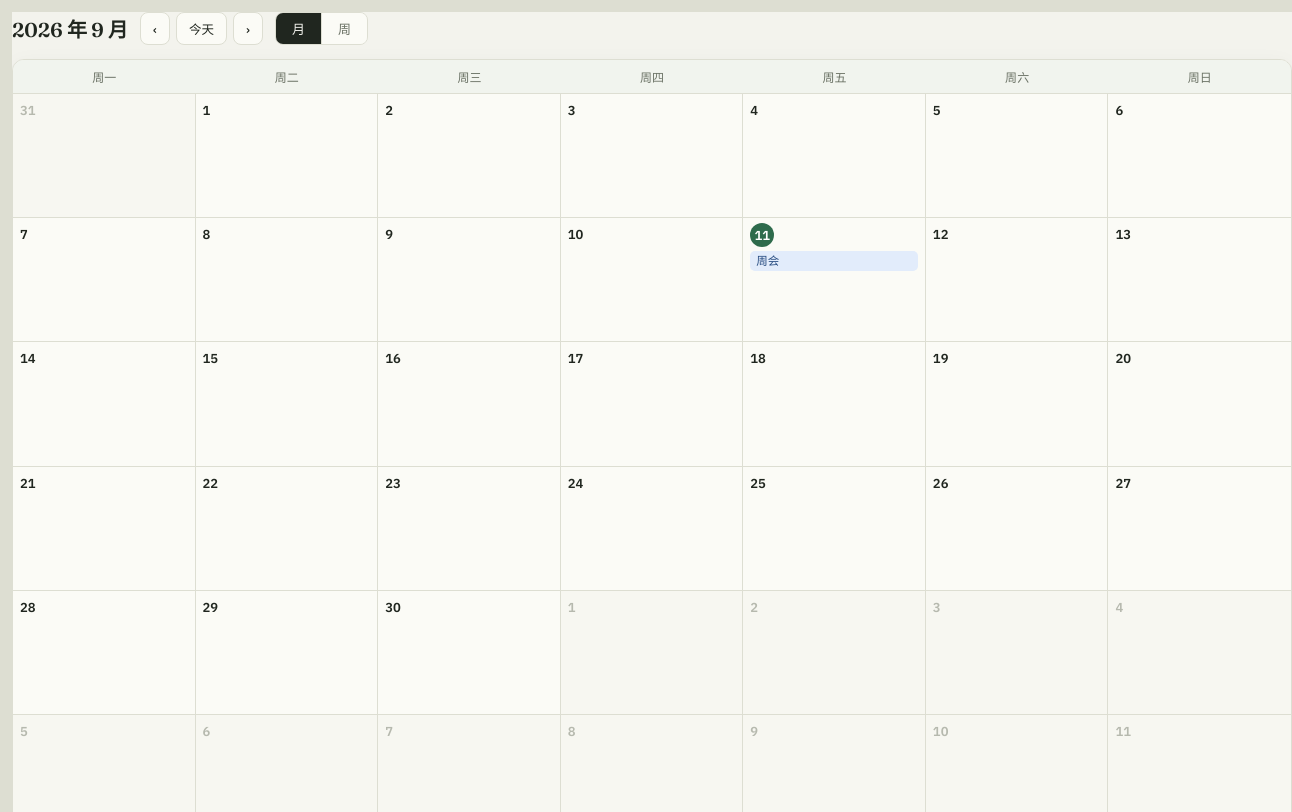
Scenario: CalendarView › 可切换周视图
Expected: the button "周会" is shown, [750,251,918,271]
Click the button "周": (344, 28) [321,13,367,44]
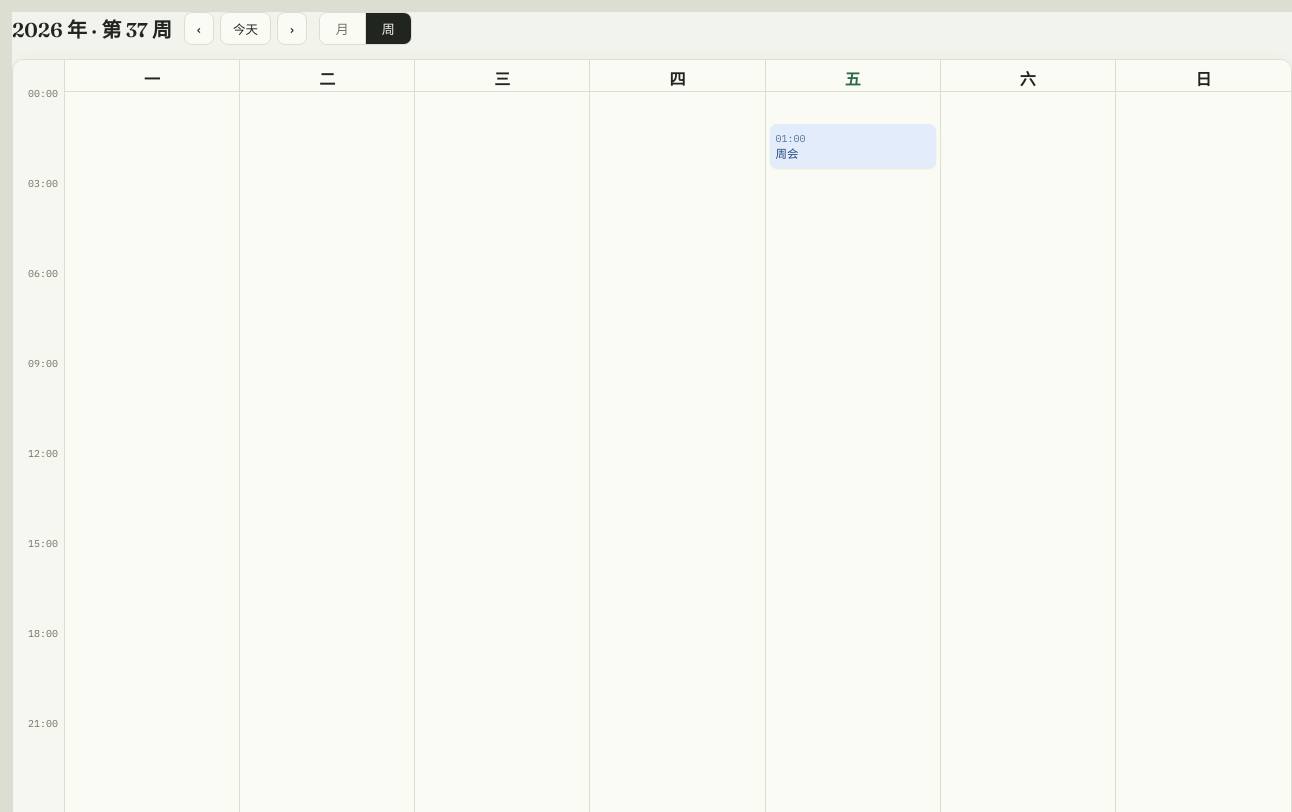
Now the button "01:00 周会" is shown, box [770,124,936,168]
